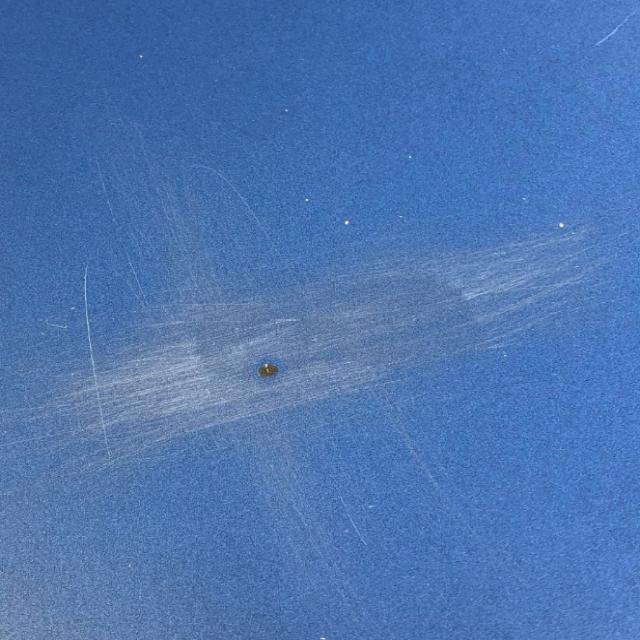dents: (185, 328, 465, 407)
